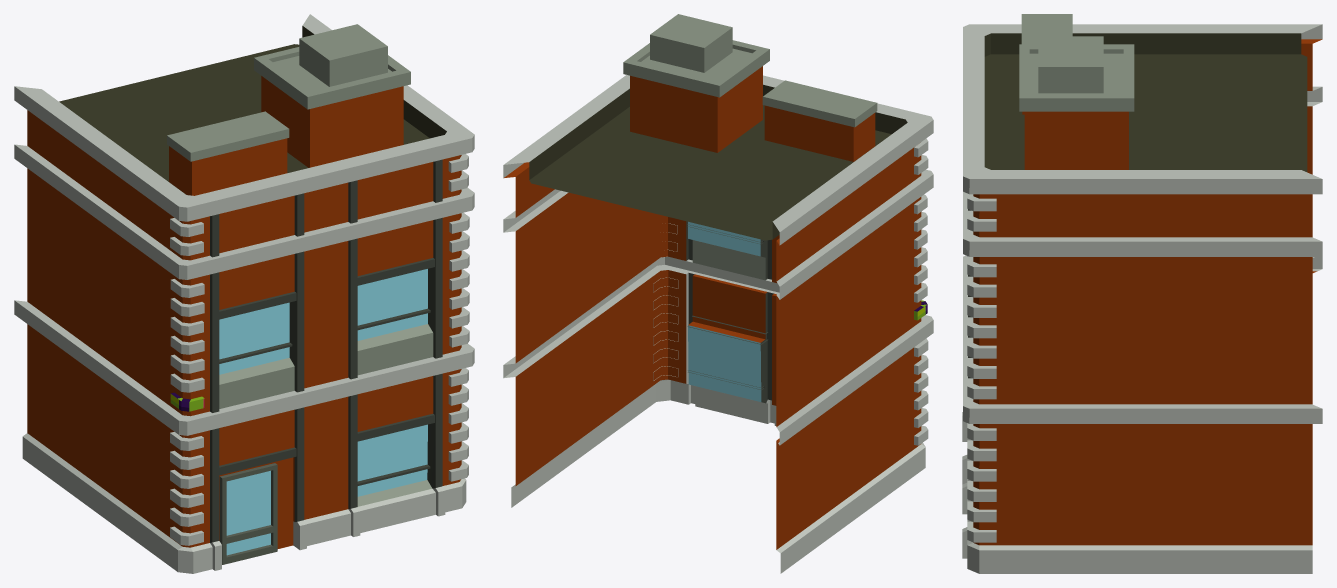
The model's file is House4.fbx.
3 views of the same model, side by side, from view 1: azimuth 30°, elevation 25°; view 2: azimuth 150°, elevation 25°; view 3: azimuth 270°, elevation 25° (orthographic). The views are drawn at different scales.
Visible parts, largest first — view 1: House1.004; view 2: House1.004; view 3: House1.004.
Part boxes in pixels (bbox=[...]): House1.004: bbox=[14, 14, 474, 573]; House1.004: bbox=[503, 14, 933, 573]; House1.004: bbox=[962, 14, 1322, 573].
Bounding box in the file's own units: 795 × 1150 × 782.
1 material, 1 textured.
